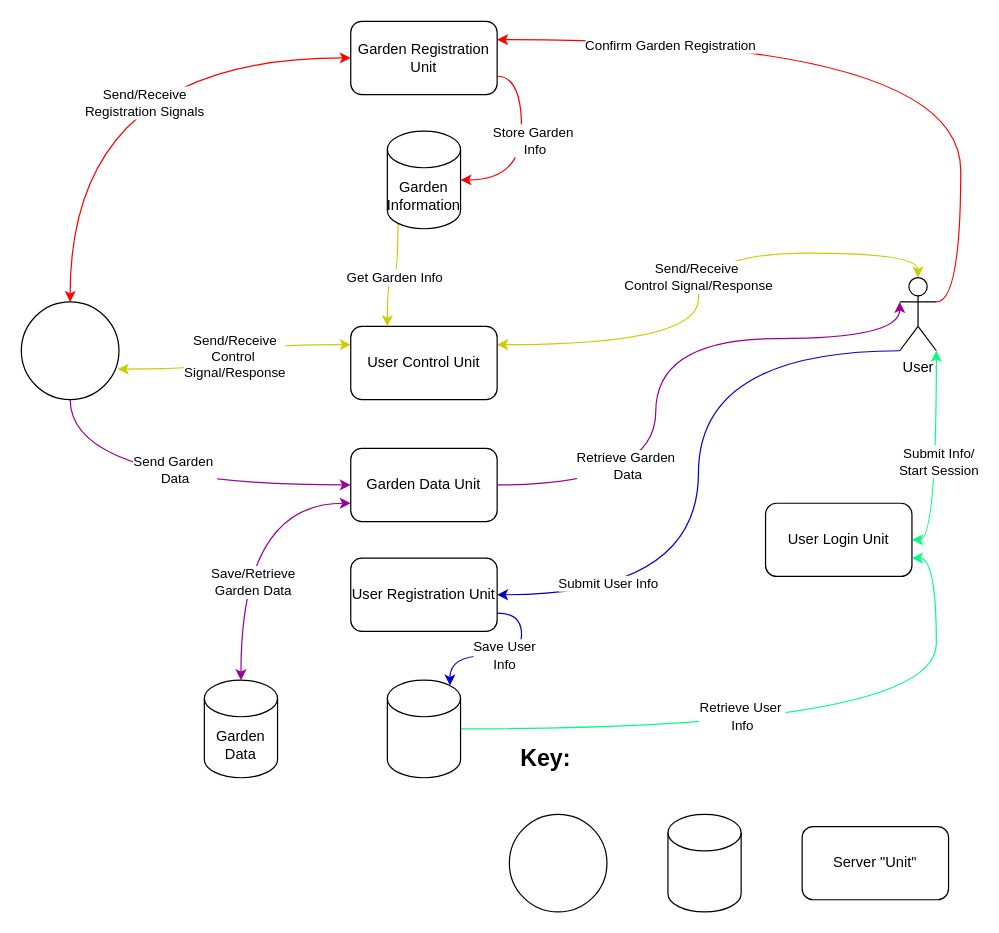
This 999x933 diagram has some shape labels left out. Each missing label, with the box of its shape:
Database Table: (667, 813, 741, 912)
Garden: (20, 301, 119, 400)
Physical Board: (508, 813, 607, 912)
User Account Info: (386, 679, 461, 778)
